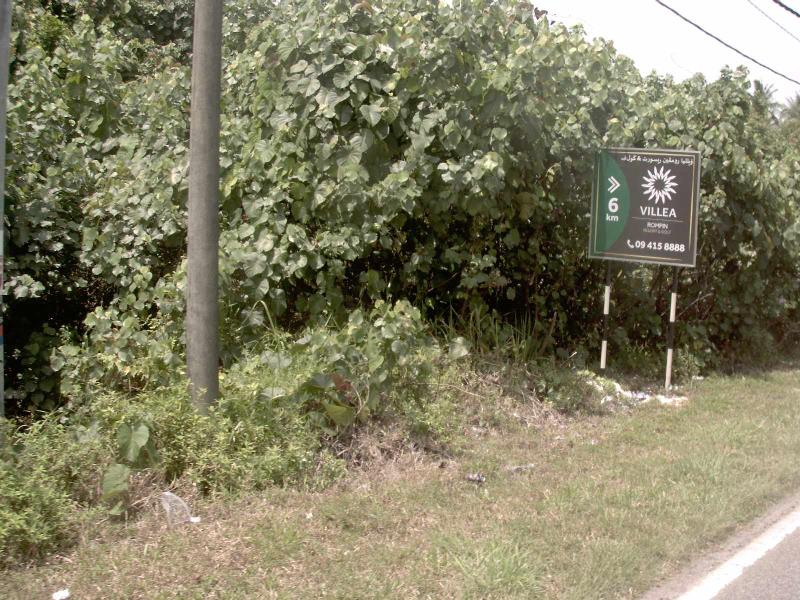ads_sign: (578, 134, 712, 276)
